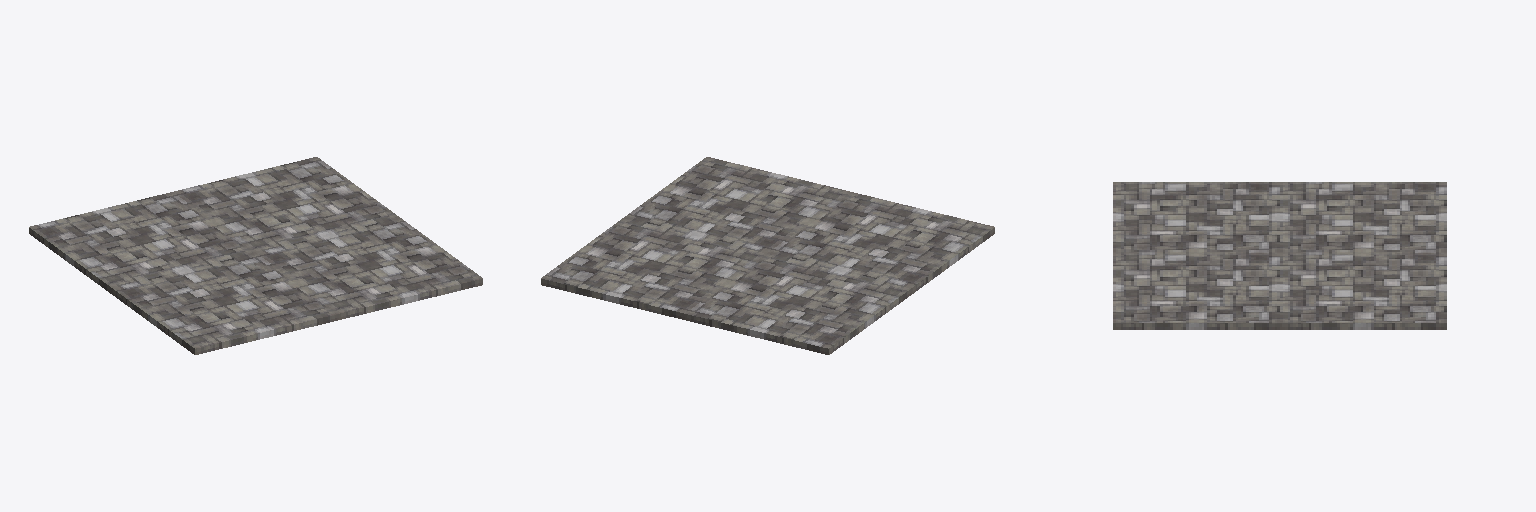
3 views of the same model, side by side, from view 1: azimuth 30°, elevation 25°; view 2: azimuth 150°, elevation 25°; view 3: azimuth 270°, elevation 25° (orthographic).
Visible parts, largest first — view 1: 7_Pavement-A-A; view 2: 7_Pavement-A-A; view 3: 7_Pavement-A-A.
Boxes of the visible parts, x1=… form: 7_Pavement-A-A: x1=29, y1=157, x2=482, y2=354; 7_Pavement-A-A: x1=541, y1=157, x2=994, y2=354; 7_Pavement-A-A: x1=1113, y1=182, x2=1446, y2=329.
Bounding box in the file's own units: 0.6196 × 0.0135 × 0.6196.
1 materials, 1 textured.